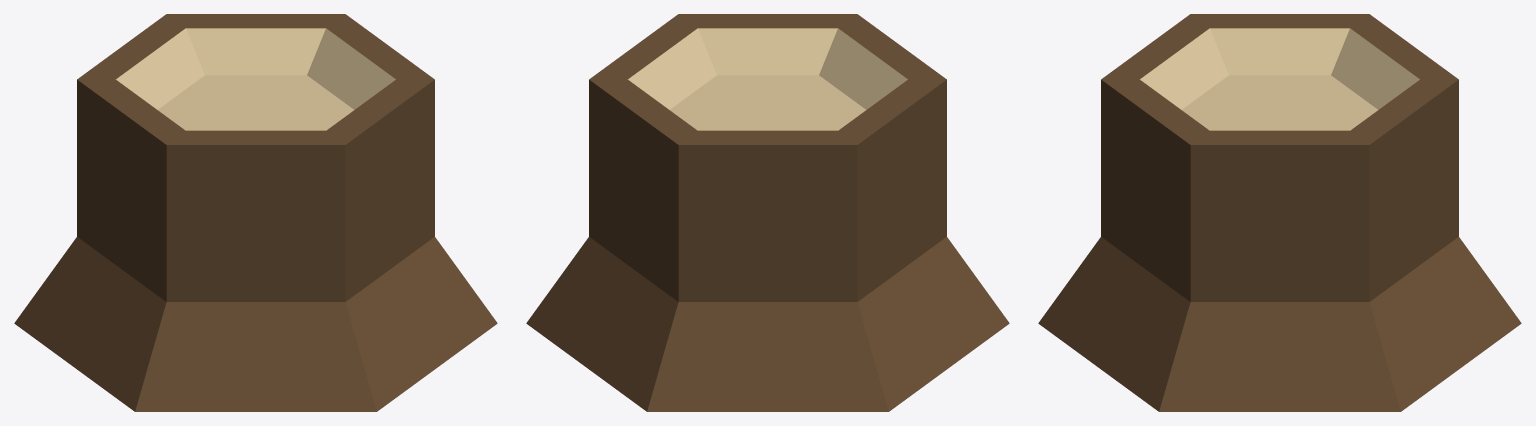
The model's file is stump-round.glb.
3 views of the same model, side by side, from view 1: azimuth 30°, elevation 25°; view 2: azimuth 150°, elevation 25°; view 3: azimuth 270°, elevation 25° (orthographic).
Parts seen in each view (by area): view 1: stump_round; view 2: stump_round; view 3: stump_round.
Part boxes in pixels (bbox=[...]): stump_round: bbox=[14, 14, 497, 411]; stump_round: bbox=[526, 14, 1009, 411]; stump_round: bbox=[1038, 14, 1521, 411].
Bounding box in the file's own units: 0.4668 × 0.3 × 0.539.
